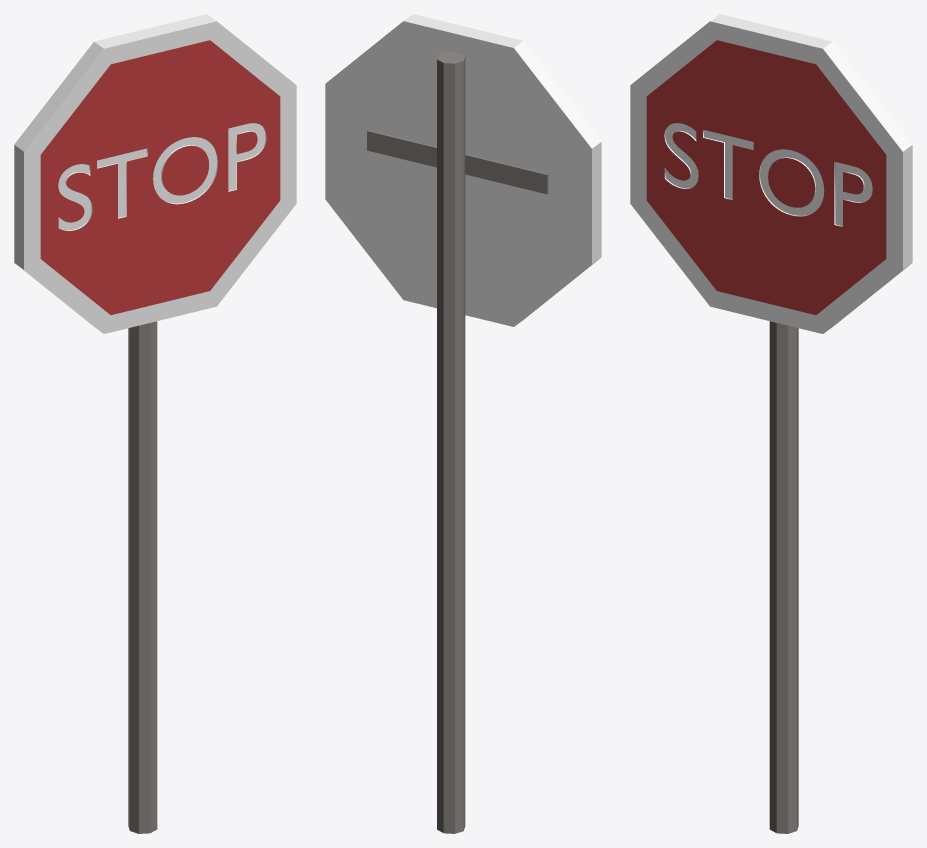
Rendered from RoadSign_02.fbx.
The picture shows the model from 3 angles, left to right: view 1: azimuth 30°, elevation 25°; view 2: azimuth 150°, elevation 25°; view 3: azimuth 330°, elevation 25°; orthographic projection. The views are drawn at different scales.
Visible parts, largest first — view 1: RoadSign_02; view 2: RoadSign_02; view 3: RoadSign_02.
Part boxes in pixels (box(x1,y1,x2,y2)): RoadSign_02: box(14, 14, 296, 833); RoadSign_02: box(325, 14, 601, 833); RoadSign_02: box(630, 14, 912, 833).
Bounding box in the file's own units: 63.86 × 180 × 10.18.
